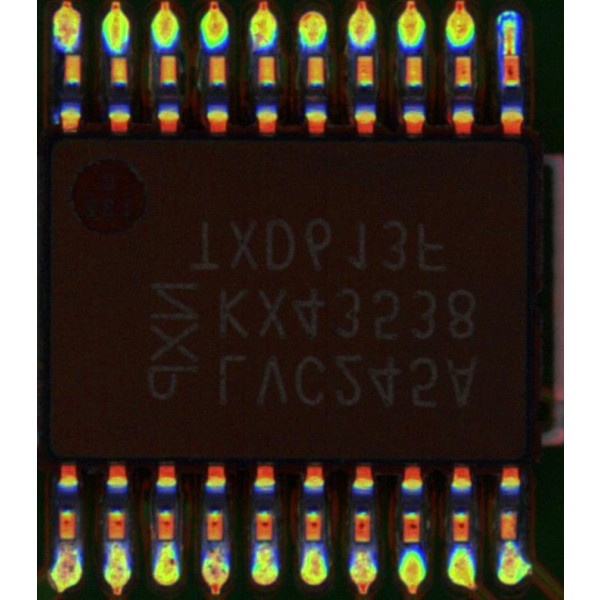Bad_podu: (505, 40, 516, 67)
